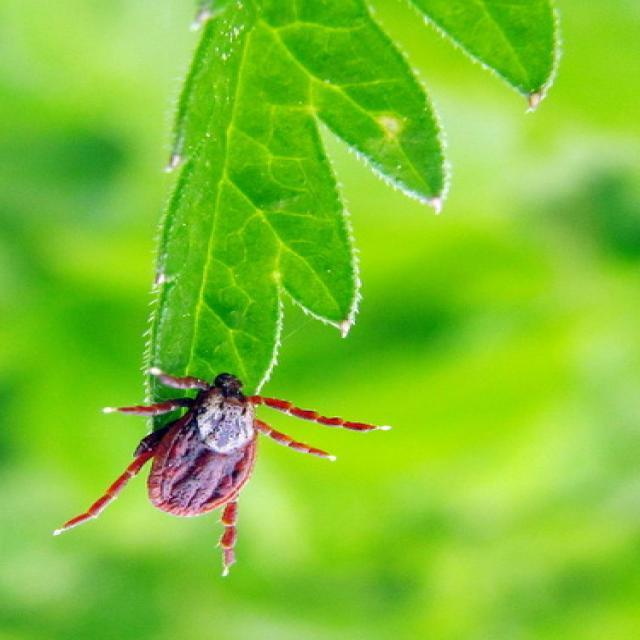Dermacentor Reticulatus-F: (60, 370, 389, 572)
